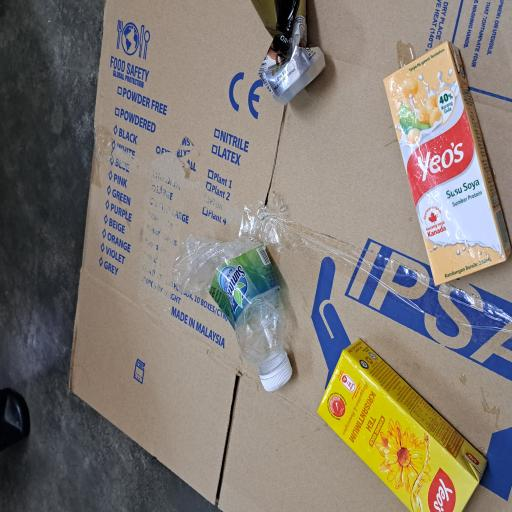can: (305, 336, 384, 434)
cardboard: (0, 89, 384, 512)
drink carton: (0, 421, 129, 512)
plastic bottle: (104, 230, 210, 380)
plastic bottle cap: (90, 346, 114, 390)
